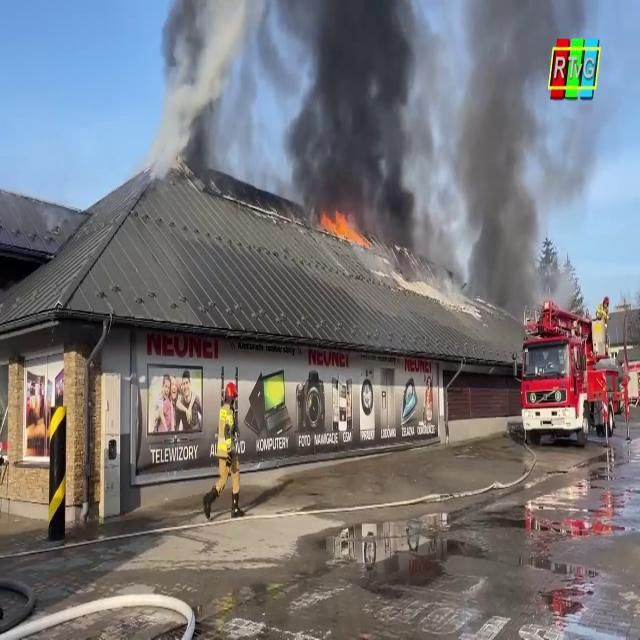Fire: (318, 201, 368, 246)
Smoke: (437, 0, 624, 324), (262, 1, 434, 242), (152, 0, 276, 177)
